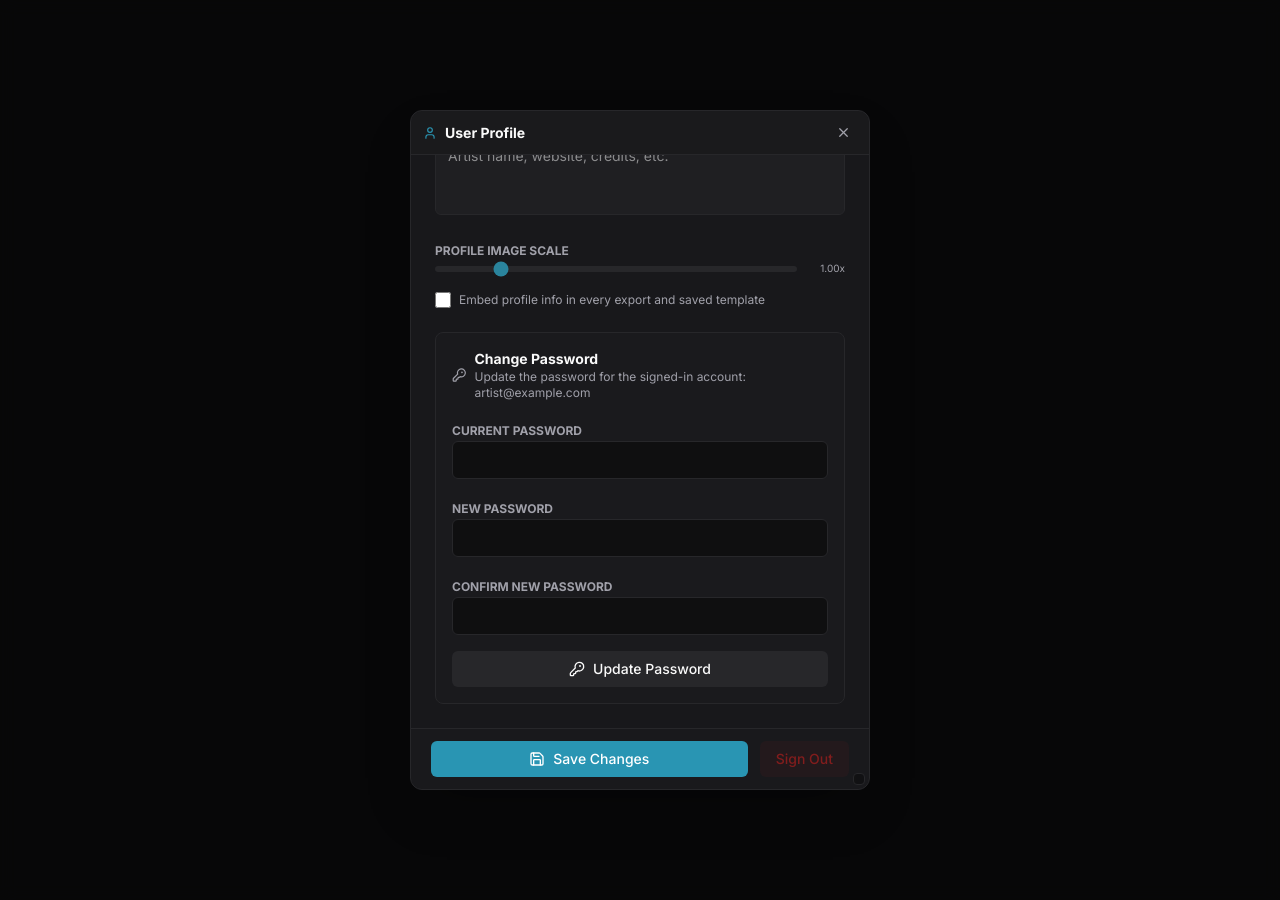
Test: UserProfileModal › blocks mismatched new passwords before sending the request
(page scrolled)
Type "old-secret" into the password field named "Current Password" at (640,460), box [452,441,828,479]
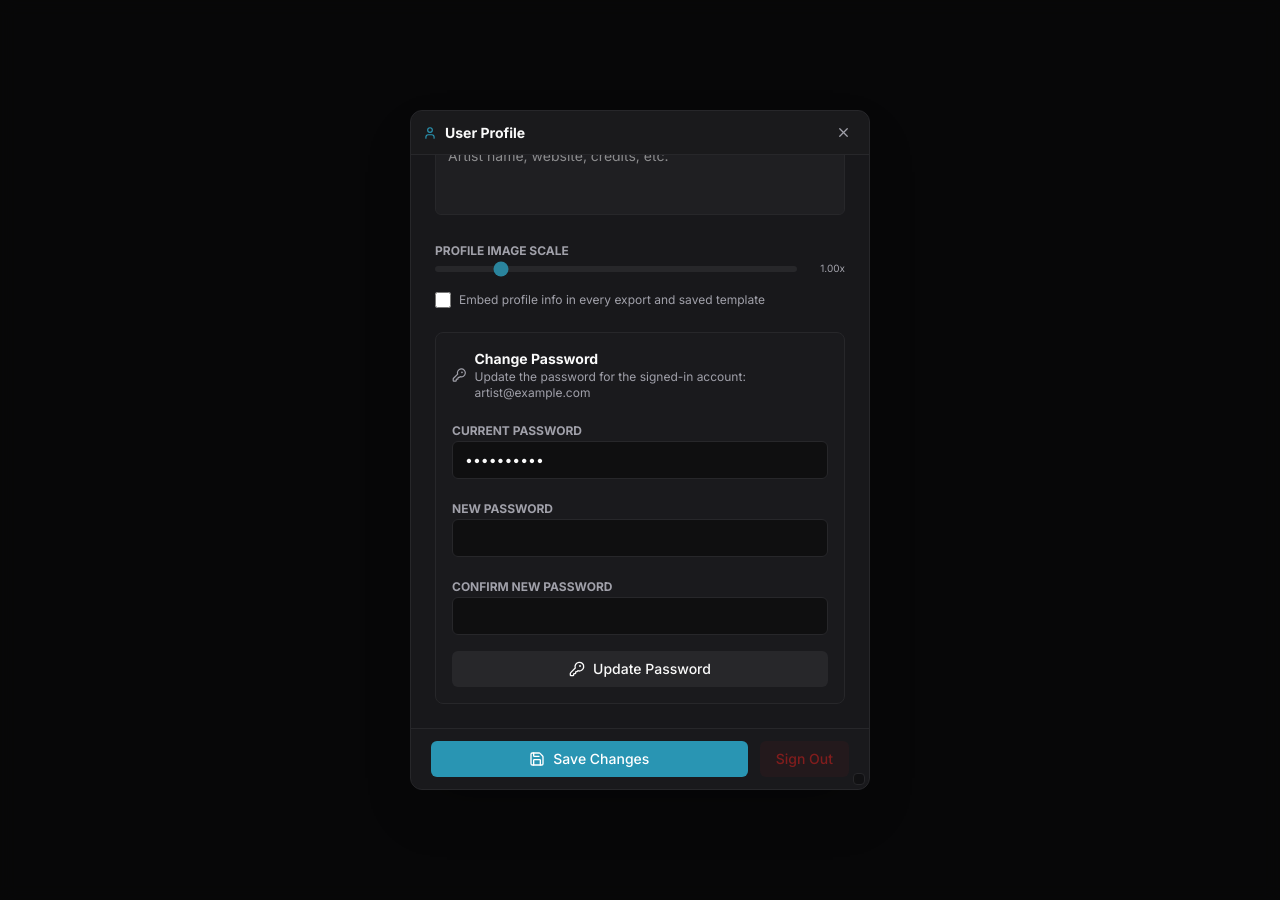
Type "new-secret" into the password field named "New Password" at (640,538), box [452,519,828,557]
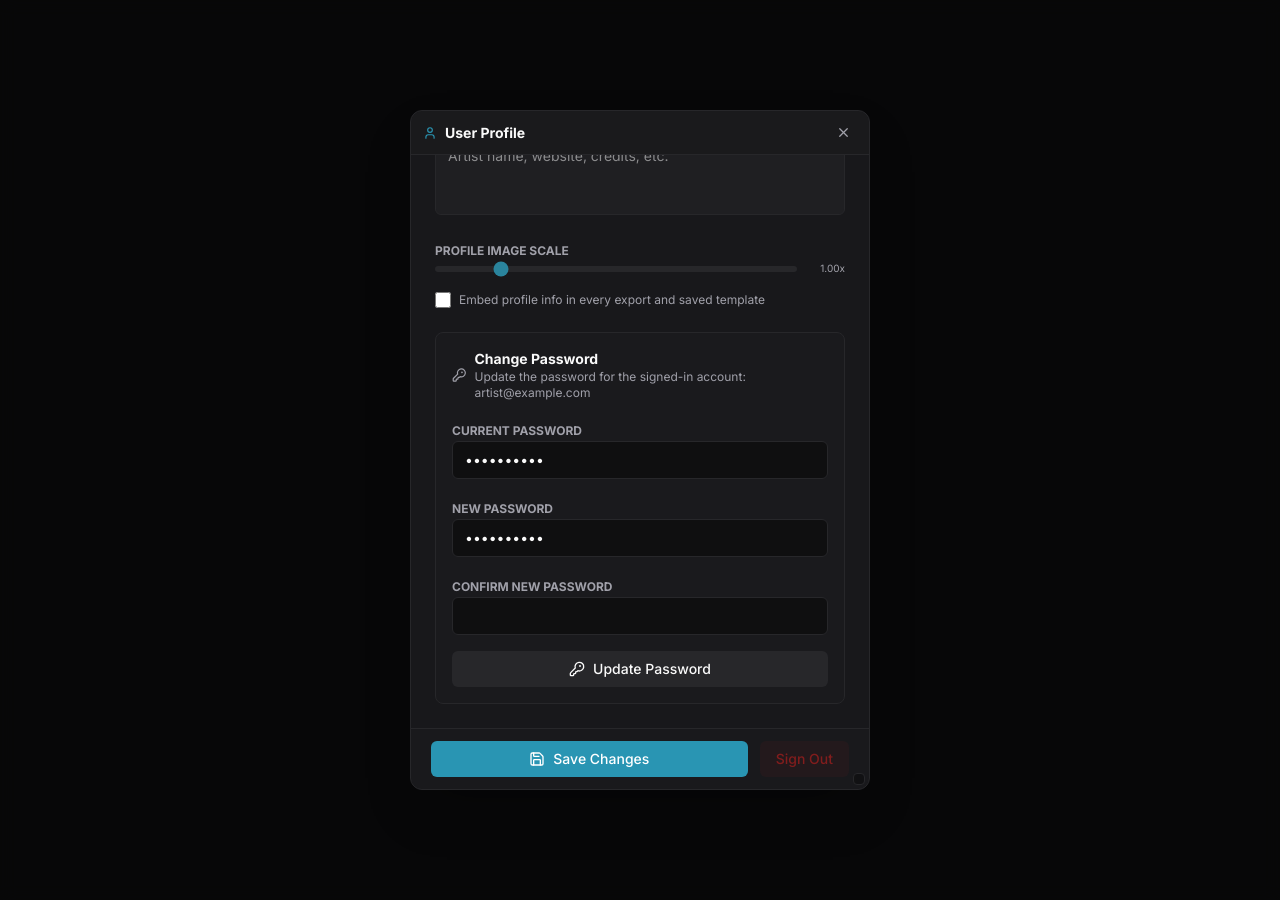
Type "other-secret" into the password field named "Confirm New Password" at (640,616), box [452,597,828,635]
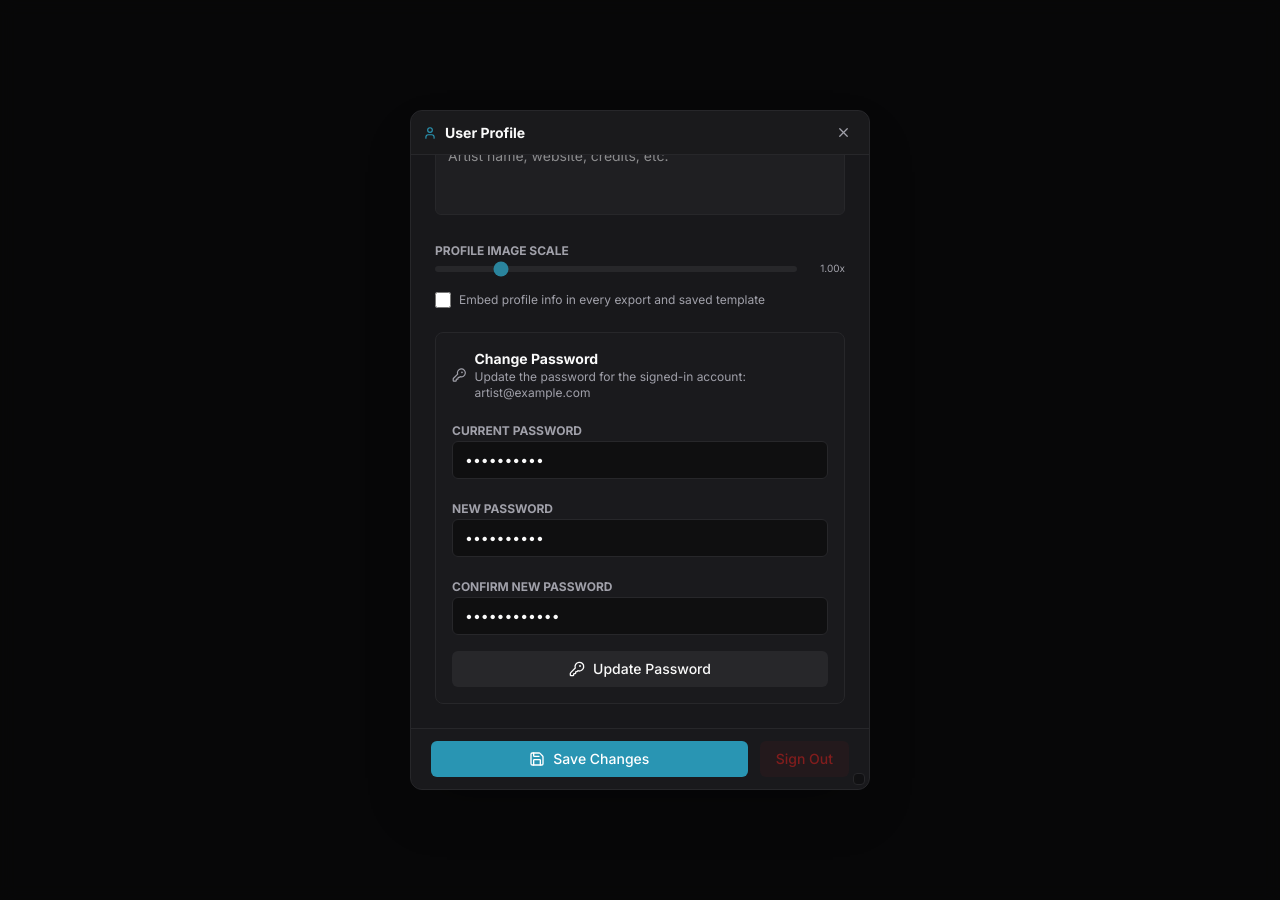
Click the button "Update Password" at (640,669), box [452,651,828,687]
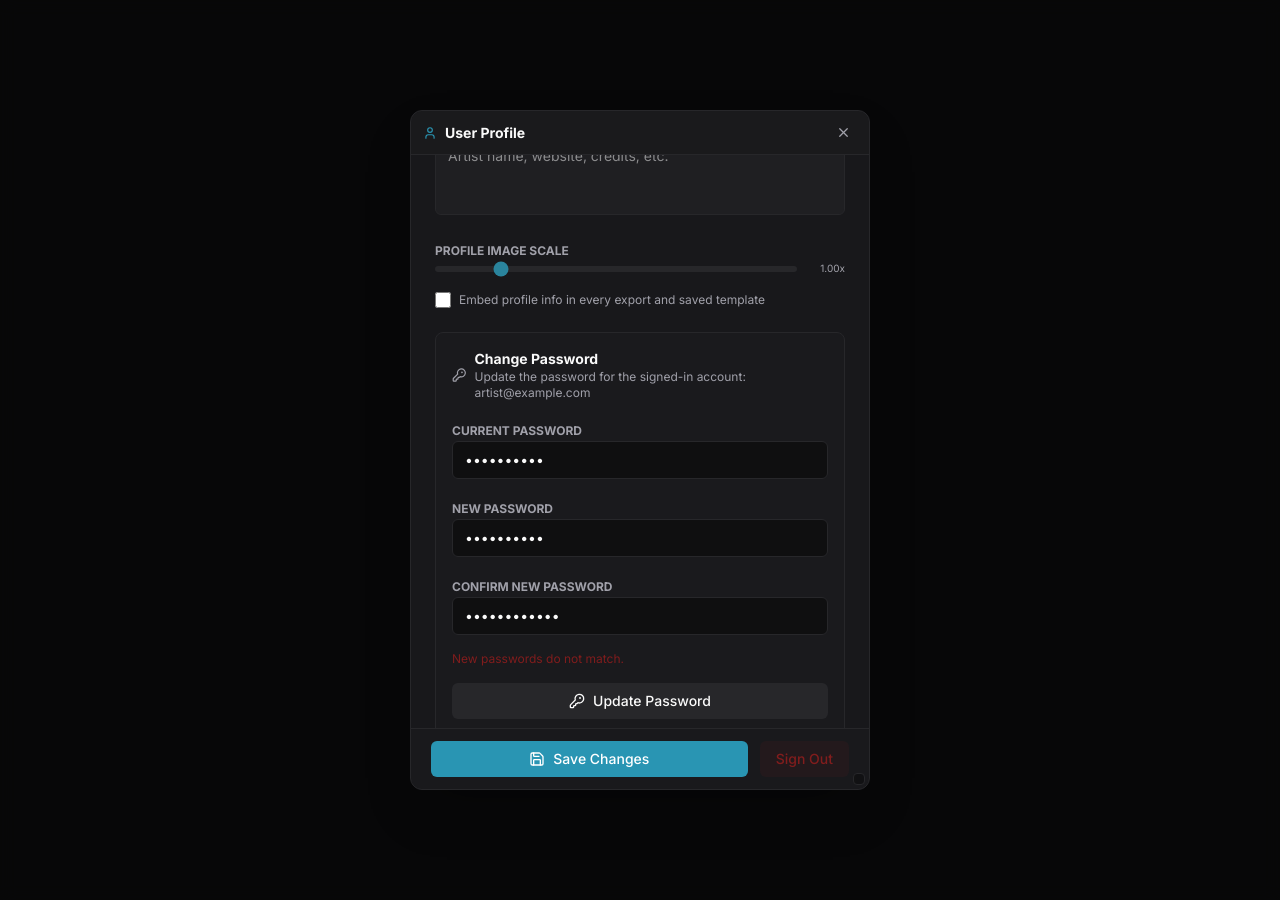
Expected: the text "New passwords do not match." is shown, [452,651,624,666]
